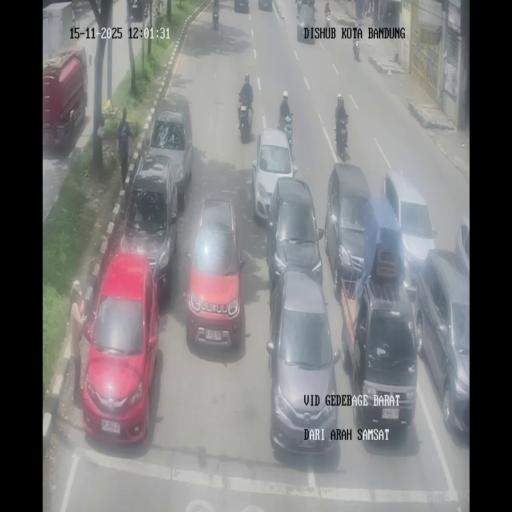car: (82, 252, 160, 444), (266, 267, 340, 457), (347, 268, 419, 436), (414, 248, 469, 440), (186, 196, 246, 350), (382, 170, 437, 294), (325, 163, 373, 291), (146, 101, 193, 205), (252, 126, 296, 221), (401, 252, 417, 320), (456, 216, 470, 286)
motorcycle: (237, 96, 253, 142), (334, 113, 349, 159), (281, 115, 293, 155), (212, 6, 219, 31), (353, 39, 360, 60), (362, 0, 370, 17), (312, 1, 318, 23), (325, 9, 331, 27), (296, 0, 302, 18)
truck: (42, 47, 88, 152)
